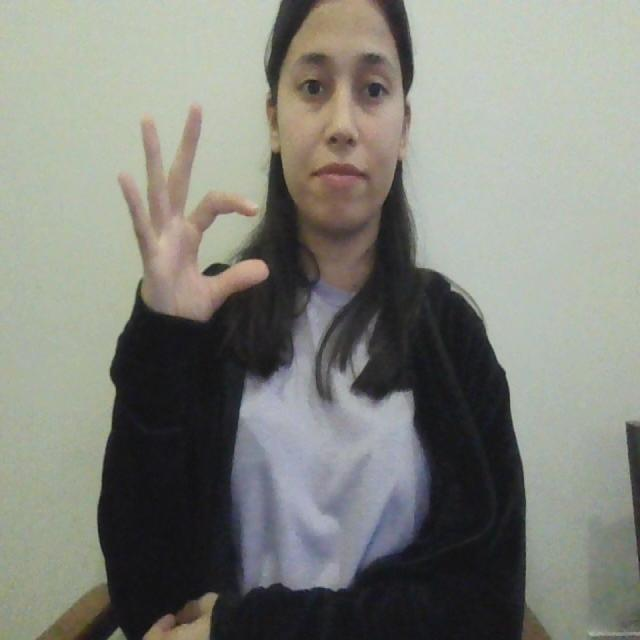Tuvalet: (95, 95, 276, 348)
